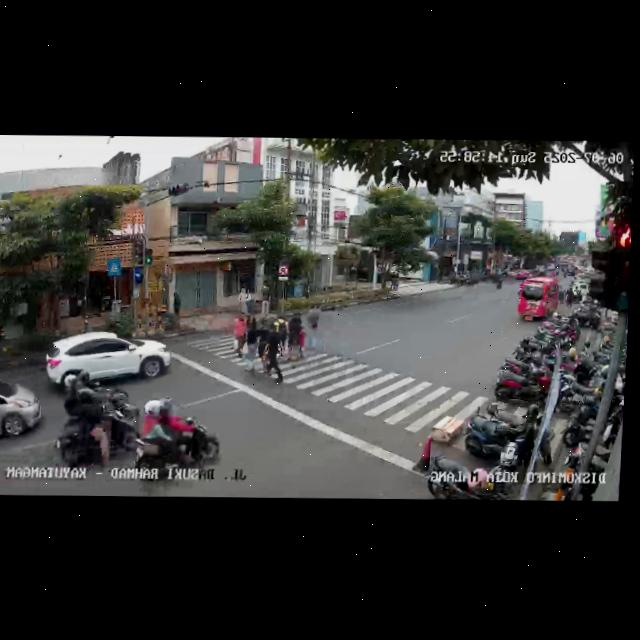car: (44, 329, 171, 394), (0, 376, 42, 450), (516, 276, 561, 324)
motorcycle: (55, 370, 144, 469), (133, 397, 223, 484)
person: (262, 325, 286, 383), (283, 313, 307, 363), (306, 304, 322, 351), (244, 322, 259, 372), (231, 313, 247, 358), (272, 313, 289, 350), (255, 317, 269, 359), (259, 281, 272, 317), (237, 288, 246, 314), (245, 288, 254, 312), (246, 313, 256, 327)
